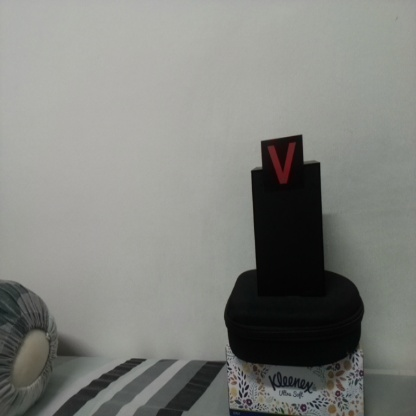id_11: (261, 140, 304, 196)
